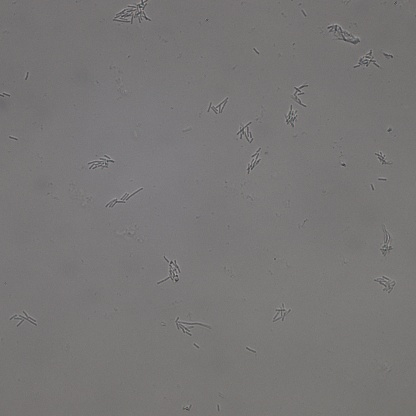R(colony): (112, 1, 151, 24), (105, 188, 143, 209), (175, 317, 211, 337), (156, 257, 181, 285), (328, 23, 361, 44), (353, 50, 381, 69), (9, 311, 38, 328), (88, 154, 116, 171), (246, 147, 262, 173), (379, 224, 392, 256), (292, 84, 309, 108), (272, 303, 291, 324), (375, 274, 396, 293), (236, 121, 253, 143), (207, 98, 228, 114), (284, 104, 298, 128), (375, 152, 391, 166)
